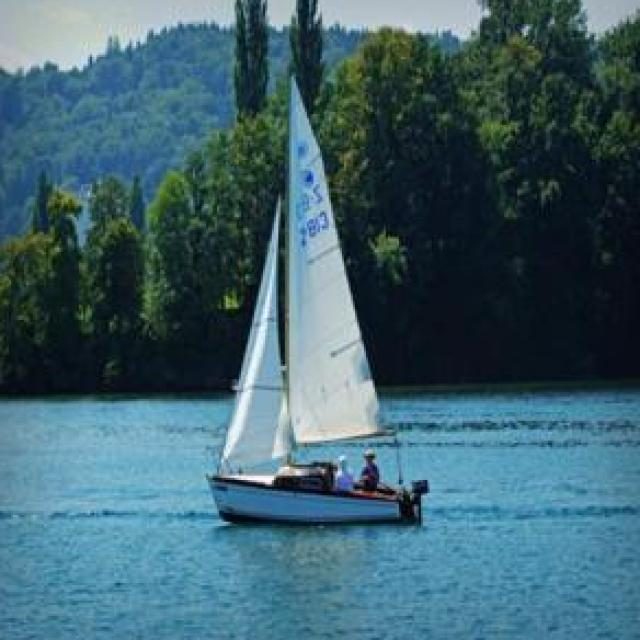sailboat: (200, 69, 413, 520)
